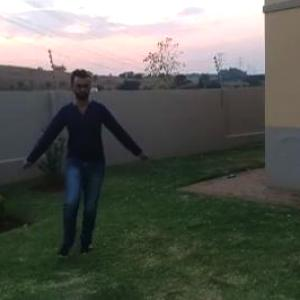land: (14, 68, 142, 268)
